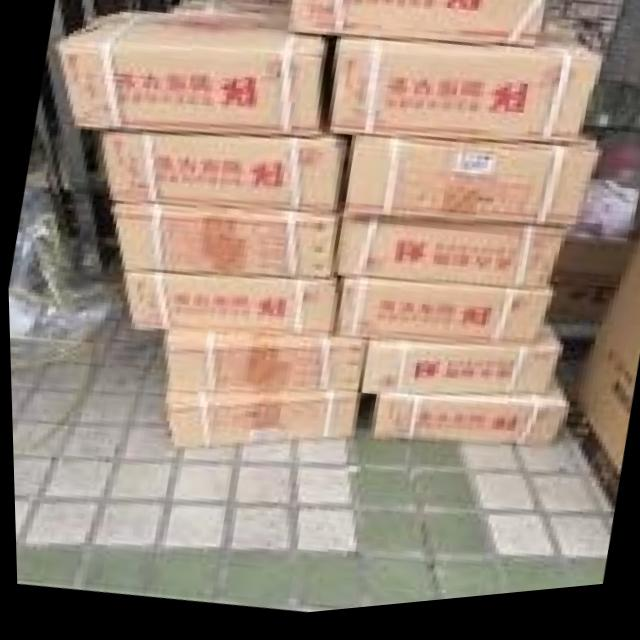box: (56, 14, 327, 142), (325, 42, 606, 152), (341, 143, 600, 237), (98, 132, 346, 222), (333, 223, 568, 301), (112, 207, 337, 285), (332, 282, 551, 355), (356, 329, 559, 404), (287, 0, 549, 58), (121, 276, 335, 342), (369, 388, 568, 456), (163, 335, 364, 400), (162, 395, 352, 452)
